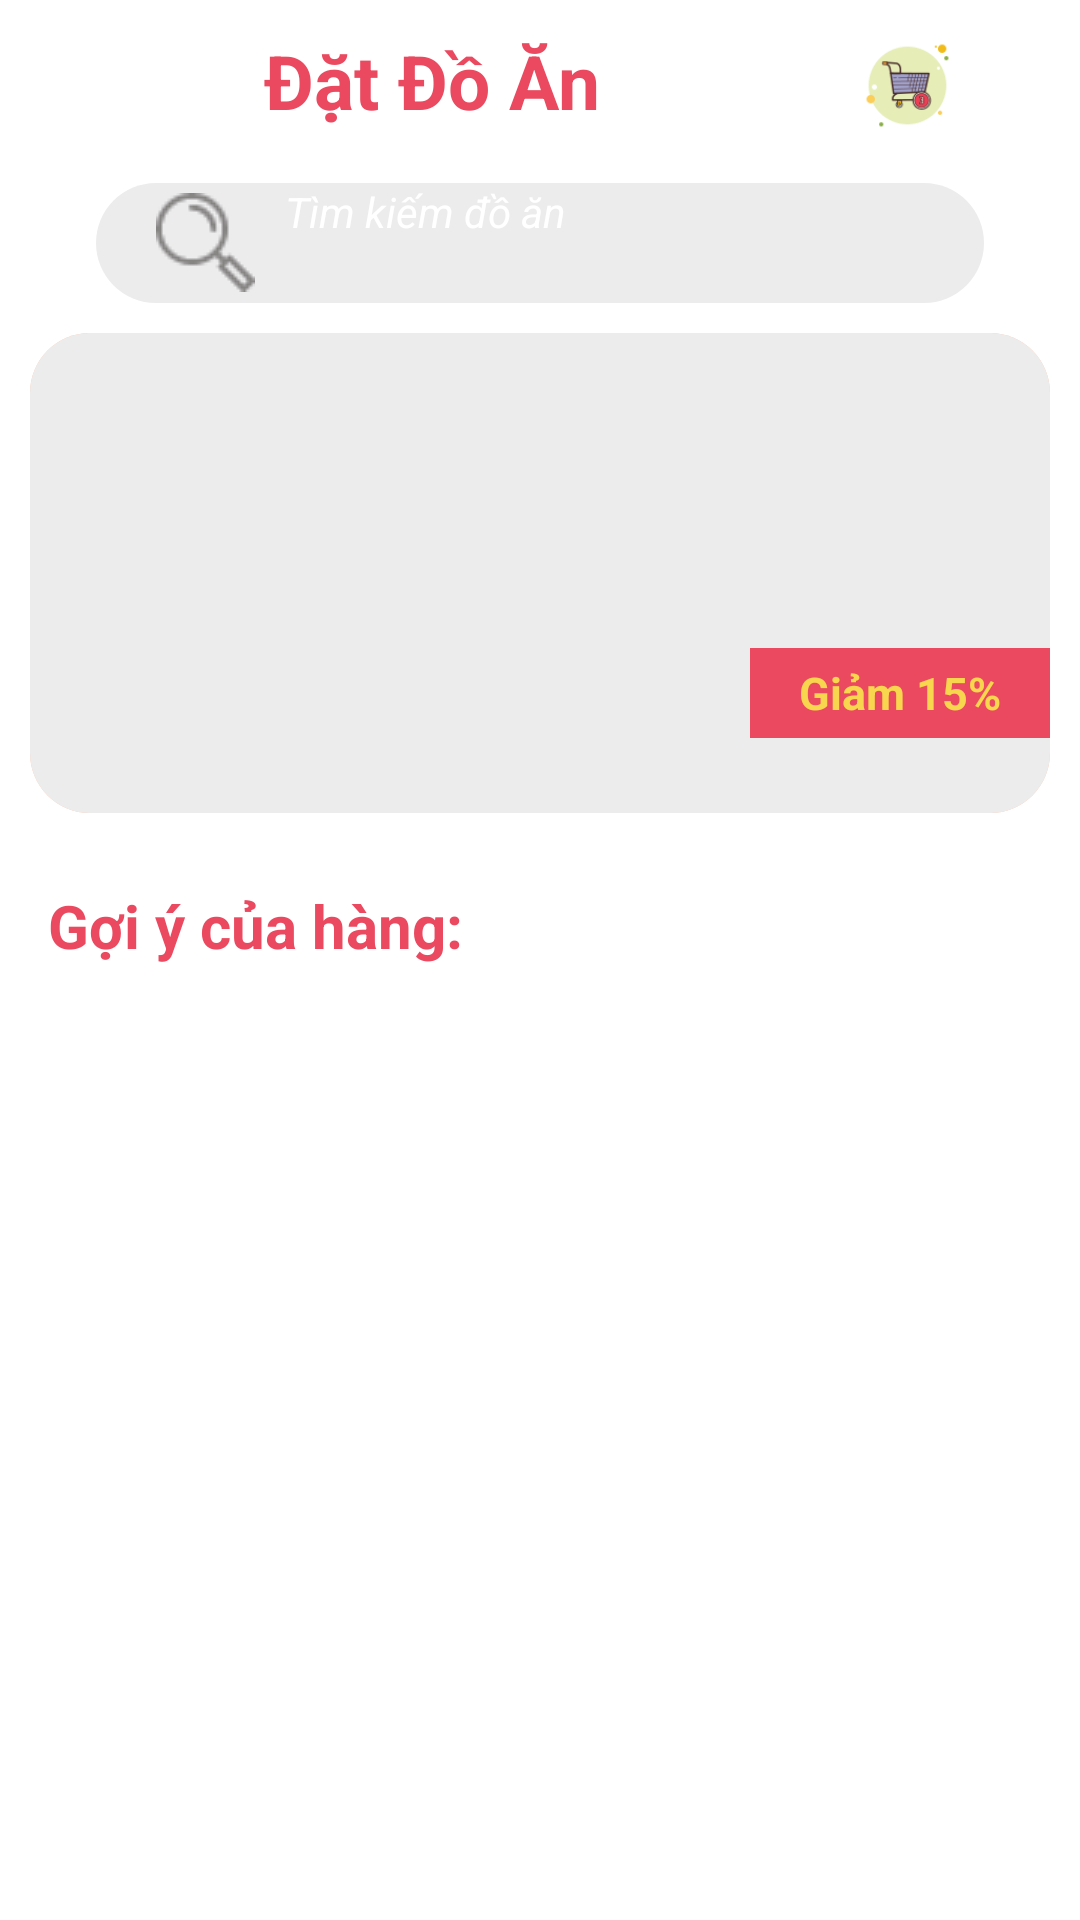

Locate icon controls on the screen. Image size 1080 x 1920, boxes as (x1, y1, x2, y2).
cart: (866, 44, 949, 127)
